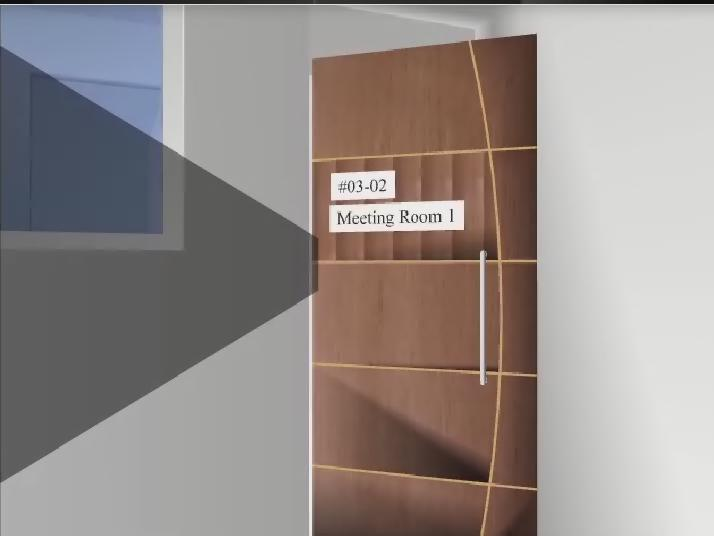door: (311, 35, 537, 536)
